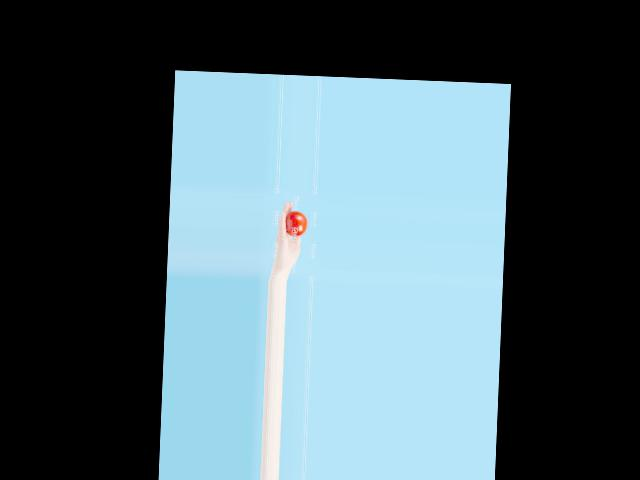tomato: (285, 210, 307, 237)
